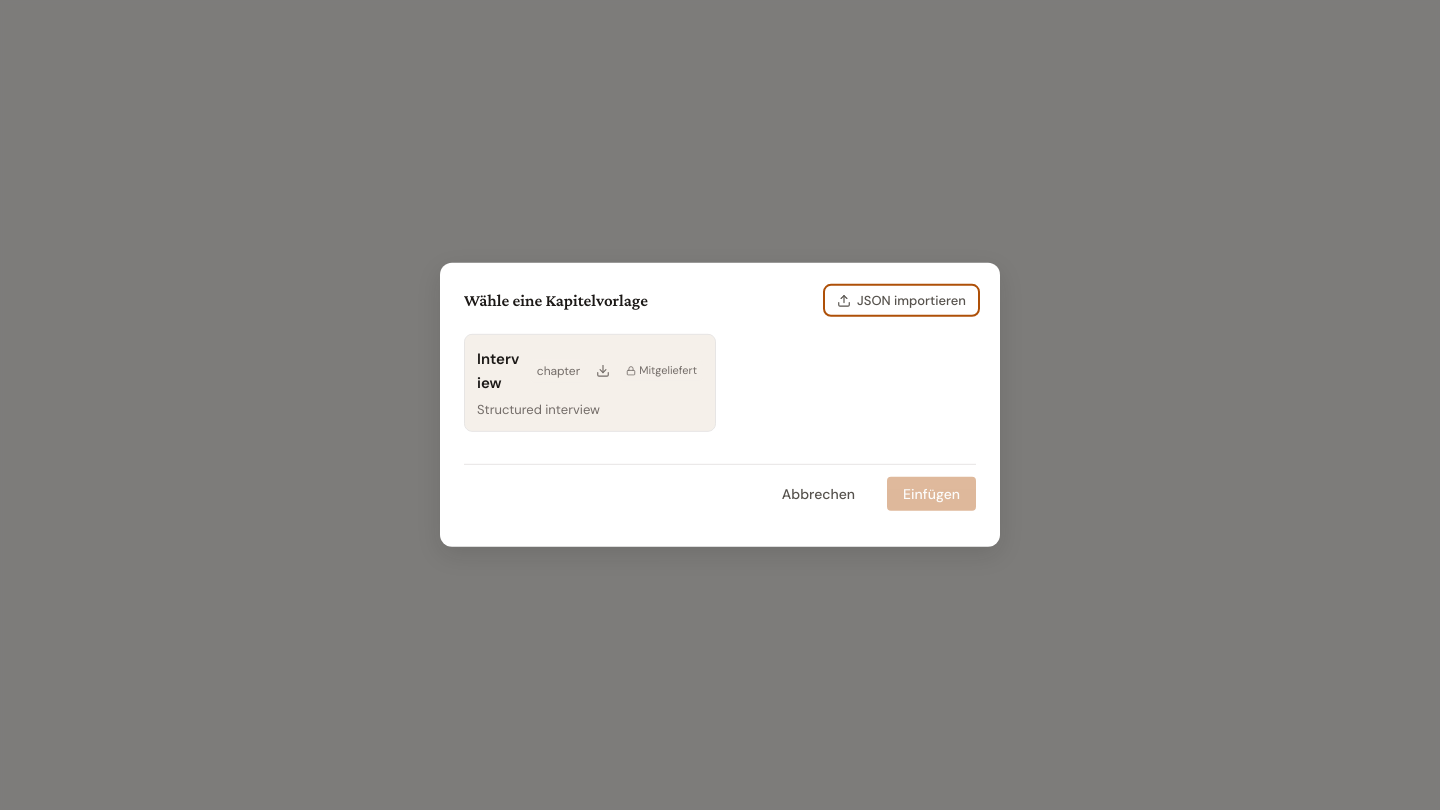
Test: ChapterTemplatePickerModal › insert button is disabled until a template is selected
expect the text "Interview" is shown: met, box [477,347,523,395]
expect the button with test id "chapter-template-insert" is disabled: met, box [887,477,976,511]
Step 1. Click the radio button with test id "chapter-template-card-tpl-interview" → (590, 383), box [464,334,716,432]
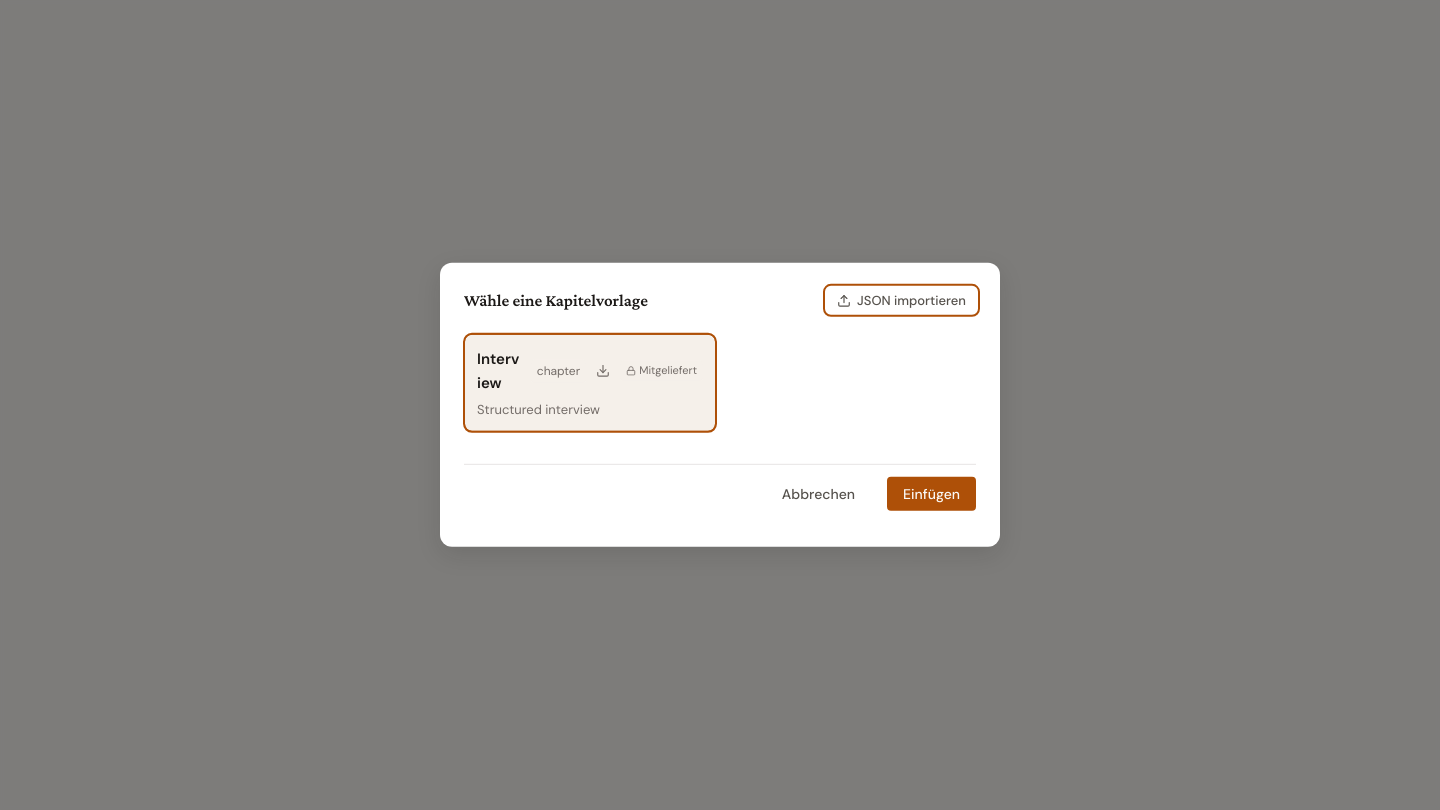
expect the button with test id "chapter-template-insert" is enabled: met, box [887,477,976,511]
